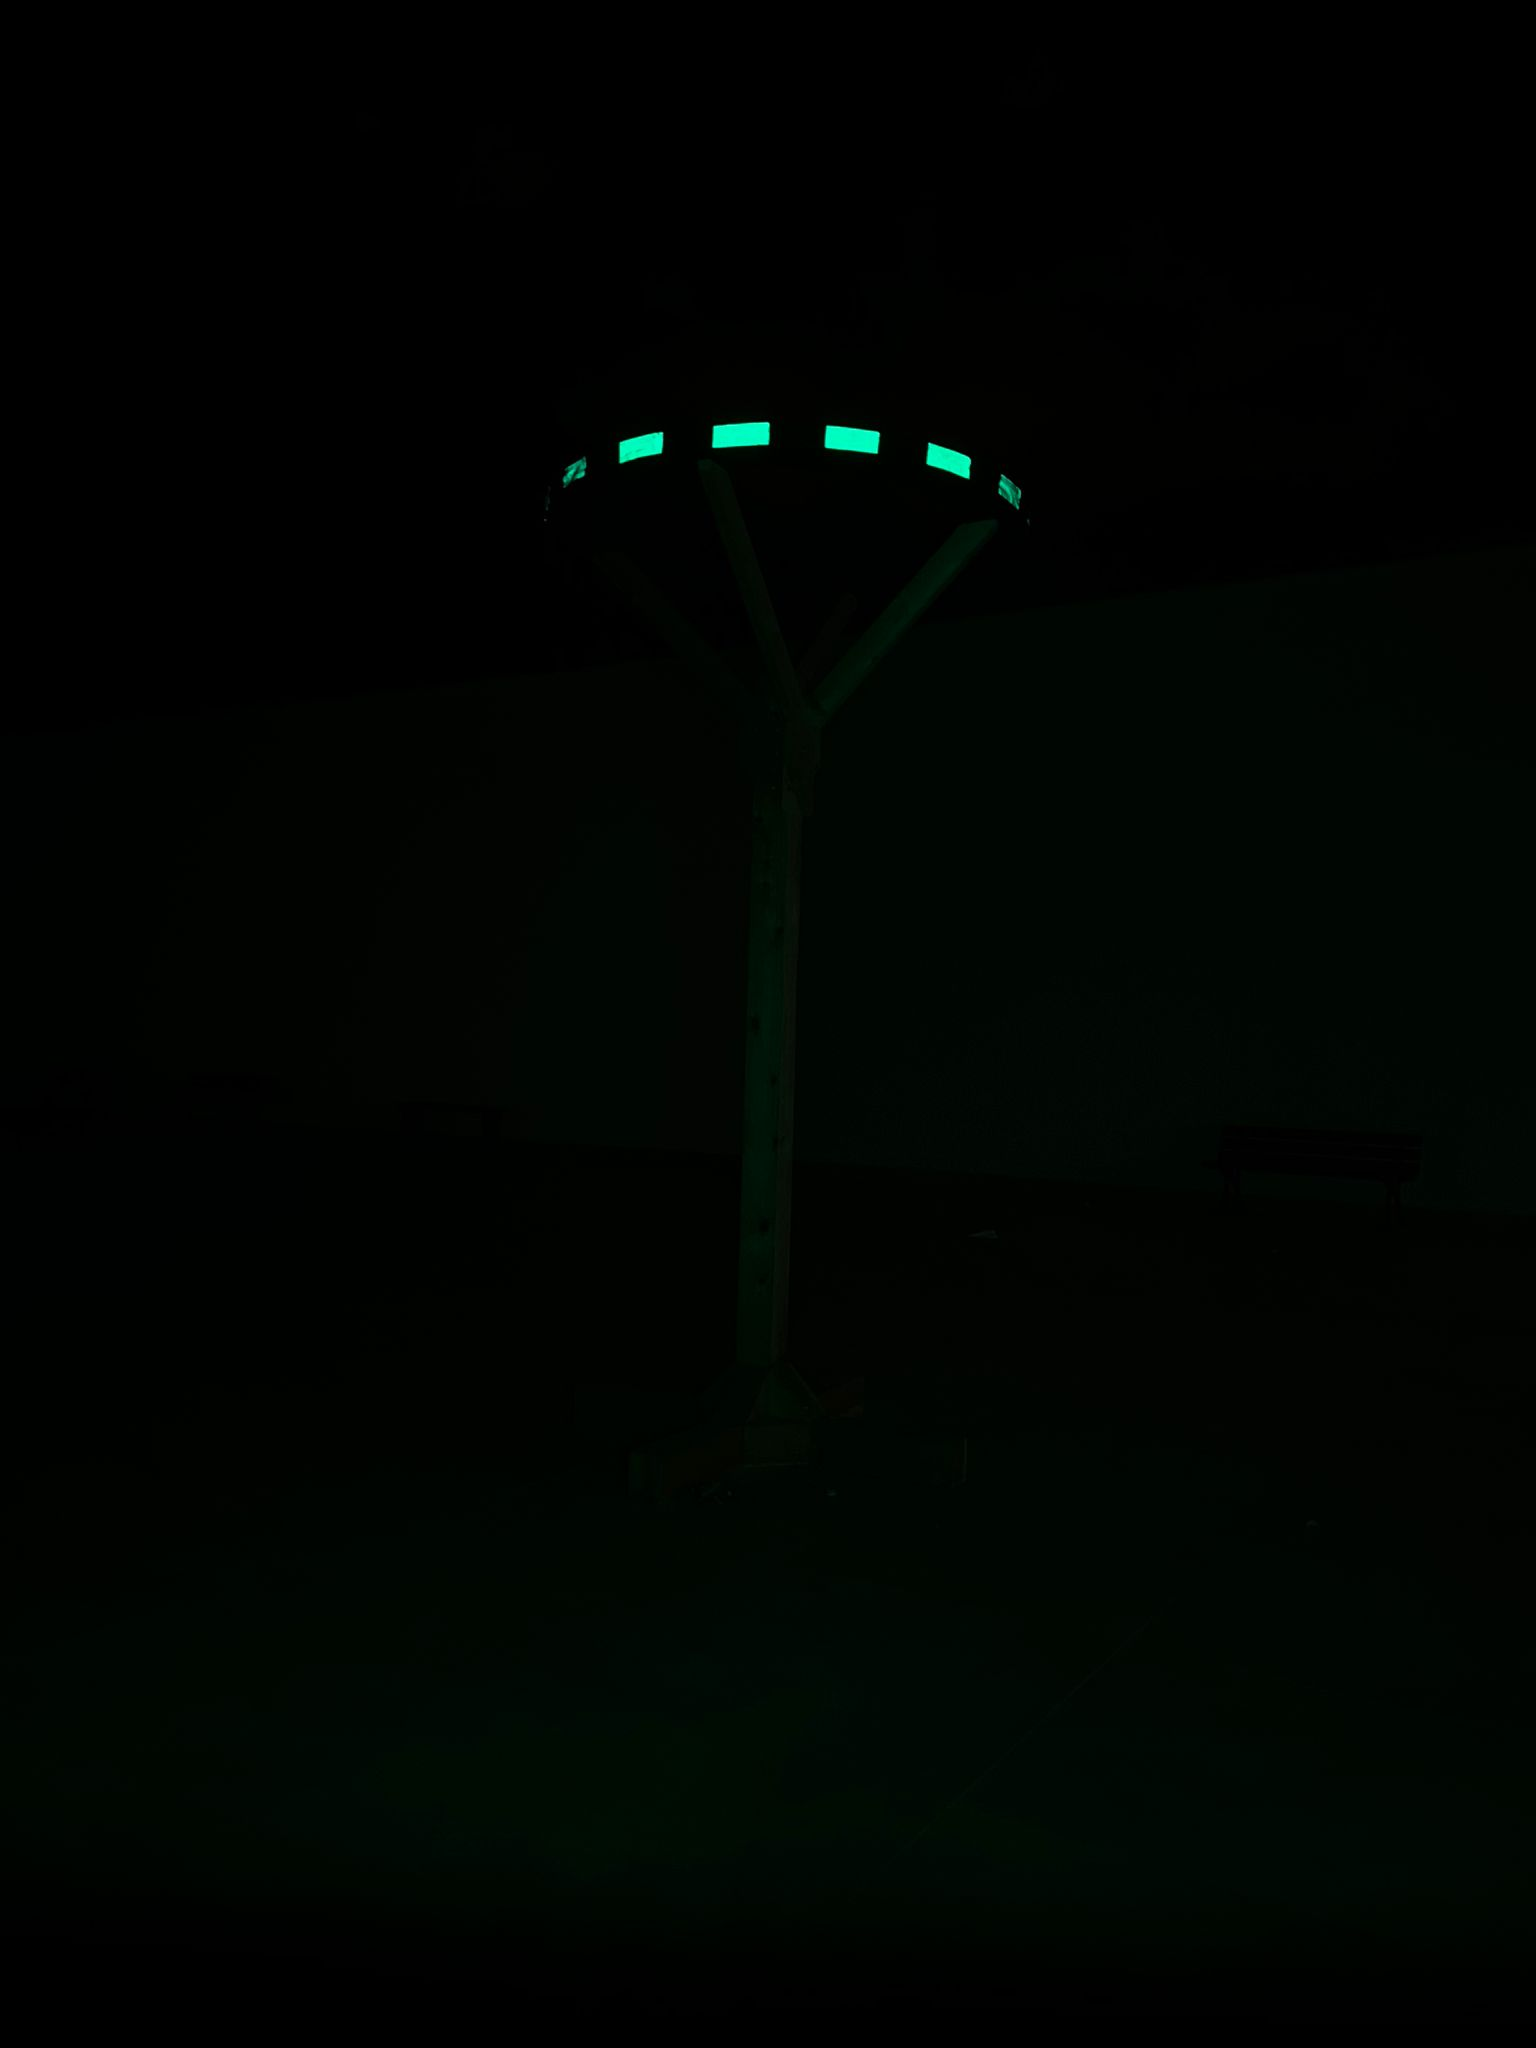hoop: (557, 414, 1026, 518)
